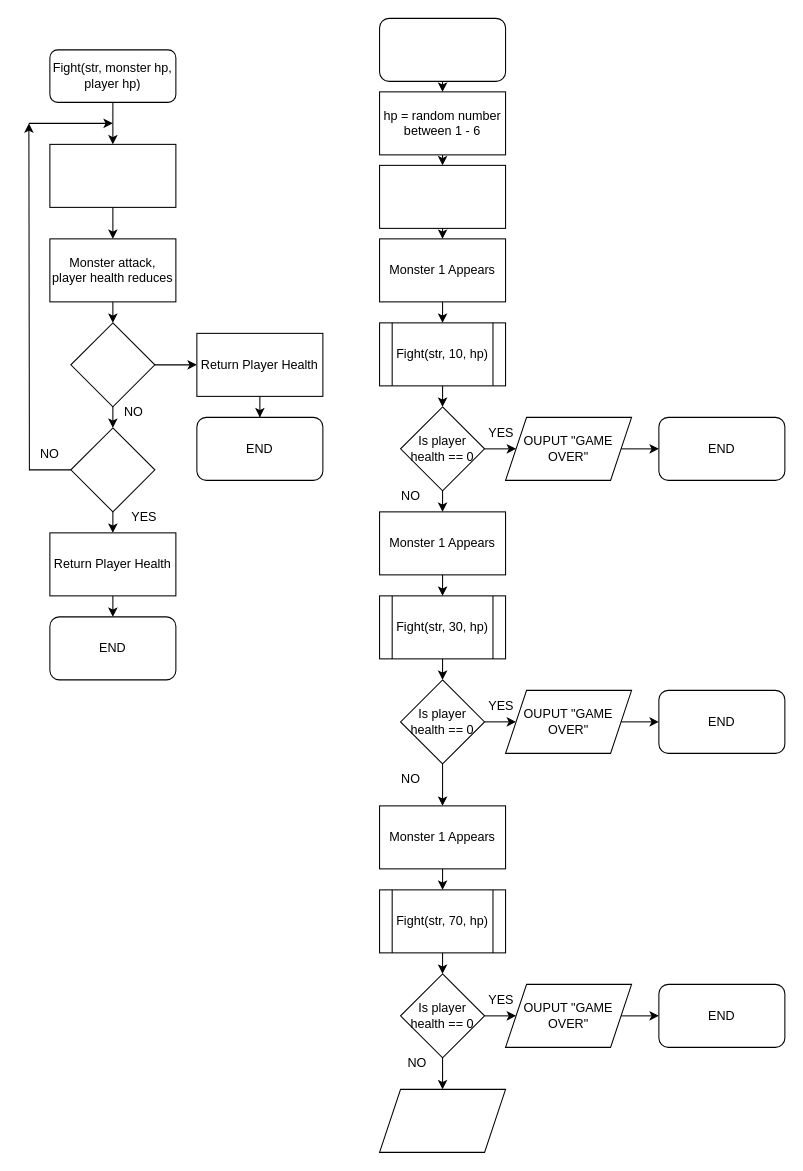
Some shapes in this 803 by 1171 pixel diagram are drawn without their labels. The centre of each missing label's shape, as x and y in pixels:
Is monster hp == 0: point 112,364
Is player hp == 0: point 112,469
OUPUT "YOU WON!!": point 442,1120
Player attack monster health reduces by str with slight adjustments: point 112,175
START: point 442,49
str = random number between 1 - 6: point 442,196
